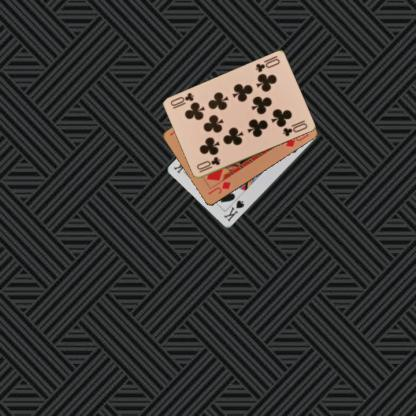10c: (194, 154, 221, 174), (252, 56, 281, 74)
Jd: (206, 179, 232, 197)
Ks: (221, 198, 245, 223)
